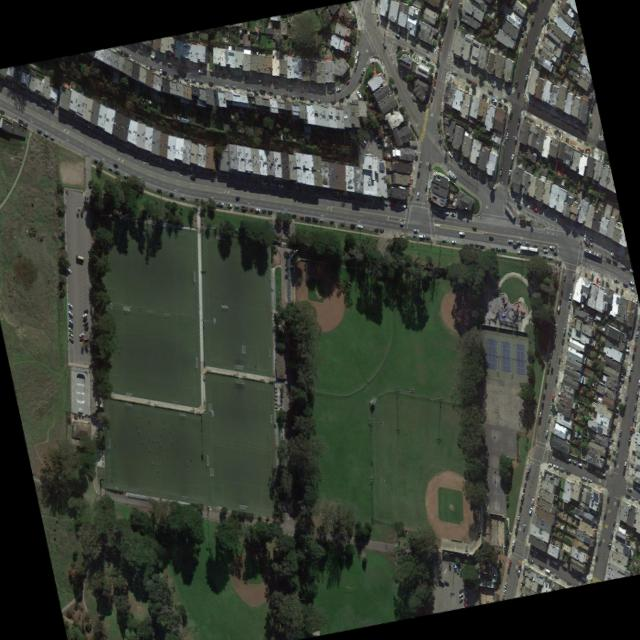large-vehicle: (582, 246, 600, 257), (502, 202, 514, 218), (519, 244, 537, 251), (446, 168, 455, 179), (609, 251, 620, 259), (581, 236, 588, 242)
small-vehicle: (393, 44, 399, 51), (355, 90, 360, 98), (619, 262, 625, 268), (610, 258, 616, 264), (551, 559, 557, 565), (66, 301, 71, 308), (537, 408, 541, 416), (527, 505, 531, 513), (588, 104, 592, 112), (446, 150, 451, 156), (543, 567, 549, 572), (634, 485, 640, 490), (579, 474, 585, 479), (551, 462, 557, 467), (39, 101, 44, 107), (67, 318, 72, 324), (65, 266, 70, 272), (360, 137, 365, 143), (520, 22, 525, 28), (392, 85, 396, 92), (360, 66, 364, 73), (604, 256, 609, 261), (531, 205, 536, 210), (515, 202, 520, 207), (489, 184, 494, 189), (618, 375, 623, 380), (603, 462, 608, 467), (629, 494, 634, 499), (334, 86, 339, 91), (82, 337, 87, 342), (42, 130, 47, 135), (148, 53, 153, 58), (97, 159, 102, 164), (200, 197, 205, 202), (123, 173, 128, 178), (113, 167, 118, 172), (139, 179, 144, 184), (486, 88, 491, 93), (465, 77, 470, 82), (437, 579, 442, 584), (457, 596, 462, 601), (636, 321, 639, 329), (415, 190, 418, 198), (417, 233, 423, 237), (399, 203, 405, 207), (416, 170, 419, 178), (498, 166, 501, 174), (530, 496, 533, 504), (526, 463, 529, 471), (544, 428, 547, 436), (636, 377, 639, 385), (507, 167, 510, 175), (359, 140, 363, 146), (368, 127, 372, 133), (355, 49, 358, 57), (67, 330, 71, 336), (67, 326, 71, 332), (67, 322, 71, 328), (67, 309, 71, 315), (380, 40, 384, 46), (433, 70, 436, 78), (508, 110, 511, 118), (442, 144, 446, 150), (543, 15, 547, 21), (216, 200, 222, 204), (567, 291, 570, 298), (561, 272, 564, 279), (589, 273, 592, 280), (633, 296, 636, 303), (549, 401, 552, 408), (623, 392, 626, 399), (628, 362, 631, 369), (632, 343, 635, 350), (543, 381, 546, 388), (549, 367, 552, 374), (538, 200, 541, 207), (427, 162, 430, 169), (507, 558, 510, 565), (521, 522, 524, 529), (511, 538, 514, 545), (513, 527, 516, 534), (519, 495, 522, 502), (524, 471, 527, 478), (596, 537, 599, 544), (602, 512, 605, 519), (605, 496, 608, 503), (615, 498, 618, 505), (628, 425, 631, 432), (621, 467, 624, 474), (622, 459, 625, 466), (617, 428, 620, 435), (622, 402, 625, 409), (358, 74, 361, 81), (352, 64, 355, 71), (353, 57, 356, 64), (516, 568, 519, 575), (510, 152, 513, 159), (523, 38, 526, 45), (534, 35, 537, 42), (540, 17, 543, 24), (513, 79, 516, 86), (504, 131, 507, 138), (585, 146, 588, 153), (583, 145, 586, 152), (543, 122, 546, 129), (516, 90, 519, 97), (591, 97, 594, 104), (524, 72, 527, 79), (480, 91, 483, 98), (457, 0, 460, 7), (612, 276, 616, 281), (622, 282, 626, 287), (629, 285, 633, 290), (627, 279, 632, 283), (623, 347, 628, 351), (624, 342, 628, 347), (458, 230, 463, 234), (449, 211, 454, 215), (546, 254, 551, 258), (548, 244, 553, 248), (450, 238, 455, 242), (489, 245, 494, 249), (620, 364, 624, 369), (561, 564, 565, 569), (527, 557, 532, 561), (612, 410, 617, 414), (580, 575, 584, 580), (565, 580, 570, 584), (631, 448, 635, 453), (576, 461, 581, 465), (626, 486, 631, 490), (586, 477, 591, 481), (565, 457, 570, 461), (173, 73, 178, 77), (161, 69, 166, 73), (344, 79, 348, 84), (338, 97, 343, 101), (78, 335, 82, 340), (78, 331, 82, 336), (16, 118, 21, 122), (135, 47, 140, 51), (48, 134, 53, 138), (82, 321, 87, 325), (81, 317, 86, 321), (81, 312, 86, 316), (68, 335, 72, 340), (155, 187, 160, 191), (408, 47, 412, 52), (393, 31, 398, 35), (409, 94, 413, 99), (451, 69, 456, 73), (470, 80, 475, 84), (356, 223, 361, 227), (266, 209, 271, 213), (388, 201, 393, 205), (462, 600, 466, 605), (457, 587, 462, 591), (443, 579, 447, 584), (571, 272, 574, 278), (614, 286, 617, 292), (619, 288, 622, 294), (560, 336, 563, 342), (541, 393, 544, 399), (545, 367, 548, 373), (442, 210, 448, 213), (501, 588, 504, 594), (517, 561, 520, 567), (516, 512, 519, 518), (518, 505, 521, 511), (522, 480, 525, 486), (612, 459, 615, 465), (350, 97, 353, 103), (127, 53, 130, 59), (607, 541, 610, 547), (492, 97, 495, 103), (430, 87, 433, 93), (438, 43, 441, 49), (444, 13, 447, 19), (530, 19, 533, 25), (588, 120, 591, 126), (529, 52, 532, 58), (240, 205, 246, 208), (447, 0, 450, 6), (556, 304, 558, 312), (627, 373, 629, 381), (547, 412, 549, 420), (557, 391, 561, 395), (398, 221, 402, 225), (541, 253, 545, 257), (516, 249, 520, 253), (512, 242, 516, 246), (615, 395, 619, 399), (528, 547, 532, 551), (533, 549, 537, 553), (538, 564, 542, 568), (553, 572, 557, 576), (605, 451, 609, 455), (629, 462, 633, 466), (633, 434, 637, 438), (583, 464, 587, 468), (565, 469, 569, 473), (558, 466, 562, 470), (571, 459, 575, 463), (190, 77, 194, 81), (197, 68, 201, 72), (256, 77, 260, 81), (166, 60, 170, 64), (374, 134, 378, 138), (345, 92, 349, 96), (316, 98, 320, 102), (290, 93, 294, 97), (36, 128, 40, 132), (22, 121, 26, 125), (151, 66, 155, 70), (83, 325, 87, 329), (123, 51, 127, 55), (115, 47, 119, 51), (112, 162, 116, 166), (83, 307, 87, 311), (193, 197, 197, 201), (107, 165, 111, 169), (393, 104, 397, 108), (517, 30, 521, 34), (417, 106, 421, 110), (490, 82, 494, 86), (502, 96, 506, 100), (328, 219, 332, 223), (276, 210, 280, 214), (254, 206, 258, 210), (463, 590, 467, 594), (458, 592, 462, 596), (424, 235, 429, 238), (412, 227, 417, 230), (431, 208, 436, 211), (470, 225, 475, 228), (515, 239, 520, 242), (551, 250, 556, 253), (541, 248, 546, 251), (531, 242, 536, 245), (523, 240, 528, 243), (500, 247, 505, 250), (494, 246, 499, 249), (506, 238, 511, 241), (599, 471, 604, 474), (197, 79, 202, 82), (317, 88, 322, 91), (251, 88, 256, 91), (329, 99, 334, 102), (298, 95, 303, 98), (269, 182, 274, 185), (282, 212, 287, 215), (349, 223, 354, 226), (318, 218, 323, 221), (304, 216, 309, 219), (226, 202, 231, 205), (277, 183, 282, 186), (373, 0, 376, 5), (463, 597, 466, 602), (595, 277, 597, 284), (562, 326, 564, 333), (558, 297, 560, 304), (559, 289, 561, 296), (567, 299, 569, 306), (600, 278, 602, 285), (552, 330, 554, 337), (635, 329, 637, 336), (551, 392, 553, 399), (554, 373, 556, 380), (540, 400, 542, 407), (424, 181, 426, 188), (503, 580, 505, 587), (506, 565, 508, 572), (521, 487, 523, 494), (594, 554, 596, 561), (627, 437, 629, 444), (509, 160, 511, 167), (158, 68, 160, 75), (537, 417, 539, 424), (413, 54, 415, 61), (453, 18, 455, 25), (513, 135, 515, 142), (436, 120, 438, 127), (526, 66, 528, 73), (583, 271, 585, 277), (597, 277, 599, 283), (553, 323, 555, 329), (605, 280, 607, 286), (631, 353, 633, 359), (548, 351, 550, 357), (557, 354, 559, 360), (547, 360, 549, 366), (490, 96, 492, 102), (411, 232, 415, 235), (418, 160, 420, 166), (441, 237, 445, 240), (541, 244, 545, 247), (488, 235, 492, 238), (474, 243, 478, 246), (468, 242, 472, 245), (515, 520, 517, 526), (610, 530, 612, 536), (612, 518, 614, 524), (616, 439, 618, 445), (631, 412, 633, 418), (634, 430, 637, 434), (633, 401, 635, 407), (635, 390, 637, 396), (594, 469, 598, 472), (637, 497, 640, 501), (625, 493, 628, 497), (547, 461, 551, 464), (286, 83, 290, 86), (231, 84, 235, 87), (223, 83, 227, 86), (208, 80, 212, 83), (310, 87, 314, 90), (253, 91, 257, 94), (226, 73, 230, 76), (218, 72, 222, 75), (209, 71, 213, 74), (188, 77, 190, 83), (183, 76, 187, 79), (181, 65, 185, 68), (245, 86, 249, 89), (259, 89, 263, 92), (309, 97, 313, 100), (280, 92, 282, 98), (0, 109, 3, 113), (179, 194, 183, 197), (168, 191, 172, 194), (429, 95, 431, 101), (425, 55, 428, 59), (439, 36, 441, 42), (516, 121, 518, 127), (483, 92, 485, 98), (373, 227, 377, 230), (299, 215, 303, 218), (291, 213, 295, 216), (261, 208, 265, 211), (248, 206, 252, 209), (233, 203, 237, 206), (378, 228, 382, 231), (447, 561, 449, 567), (510, 545, 512, 550), (614, 450, 616, 455), (507, 175, 509, 180), (273, 92, 275, 97), (119, 49, 121, 54), (432, 79, 434, 84), (311, 217, 316, 219), (382, 201, 387, 203), (458, 569, 460, 574), (455, 567, 457, 572), (633, 438, 636, 441), (93, 158, 96, 161), (235, 195, 238, 198), (479, 244, 483, 246), (326, 90, 330, 92), (301, 86, 305, 88), (376, 143, 380, 145), (282, 93, 286, 95), (267, 91, 271, 93), (261, 181, 265, 183), (339, 222, 343, 224), (453, 564, 454, 571), (639, 363, 640, 369), (570, 218, 571, 223)
